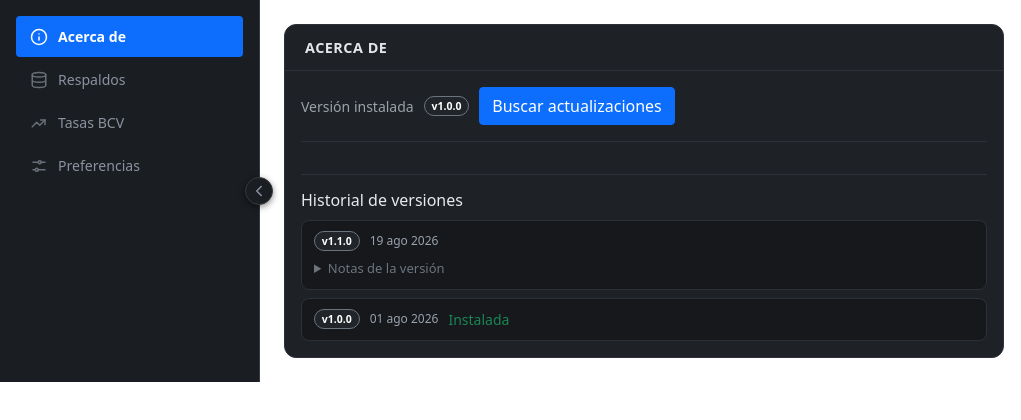
error de red del check se muestra sin romper y permite reintentar
The image size is (1021, 420).
Click the button "Buscar actualizaciones".
click(577, 106)  # box top-left (479, 87), bottom-right (675, 125)
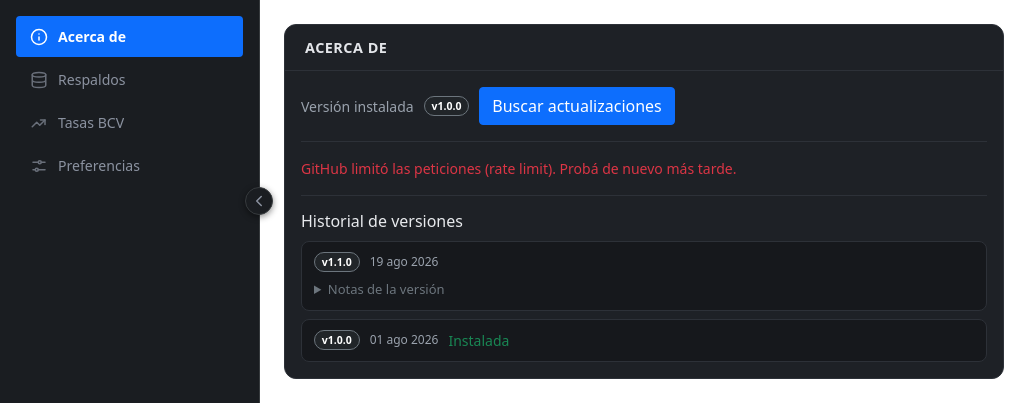
Now the text "rate limit" is shown, box top-left (301, 159), bottom-right (736, 178)
